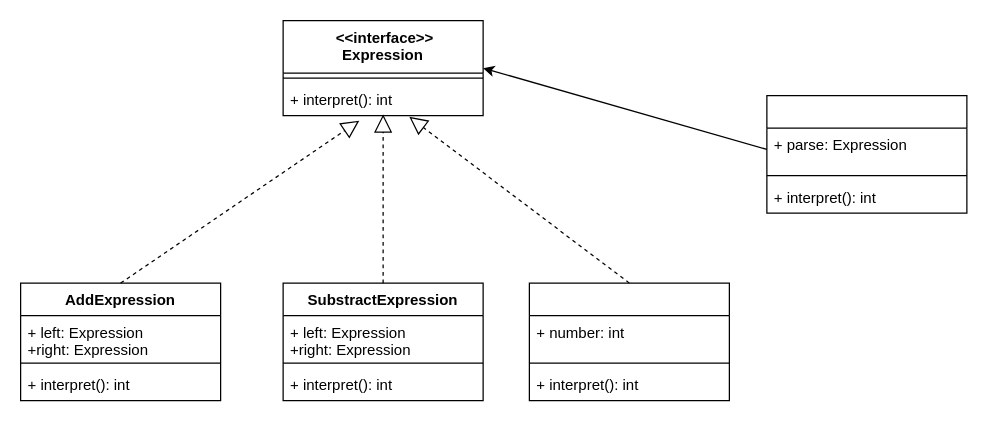
This 988x421 diagram has some shape labels left out. The shapes that lost their labels are listed below. From the top down, each one's box as (x1, y1, x2, y2) in pixels, then its label:
(766, 94, 967, 213): ExpressionParser
(528, 282, 729, 401): NumberExpression
